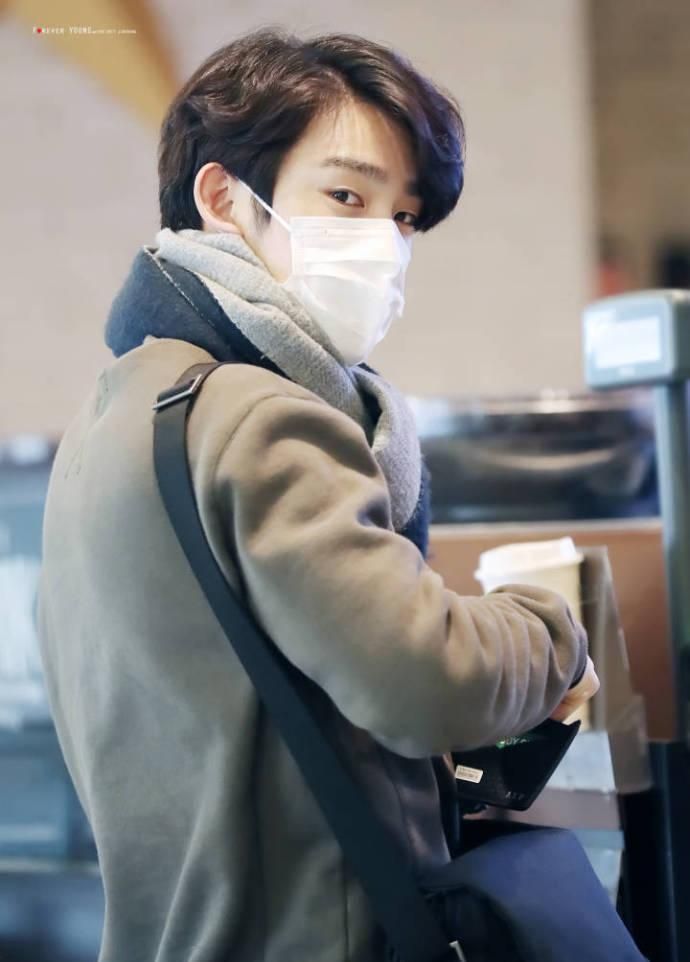OK: (237, 130, 412, 345)
